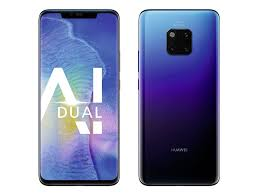huawei: (136, 7, 220, 186), (37, 7, 121, 186)
